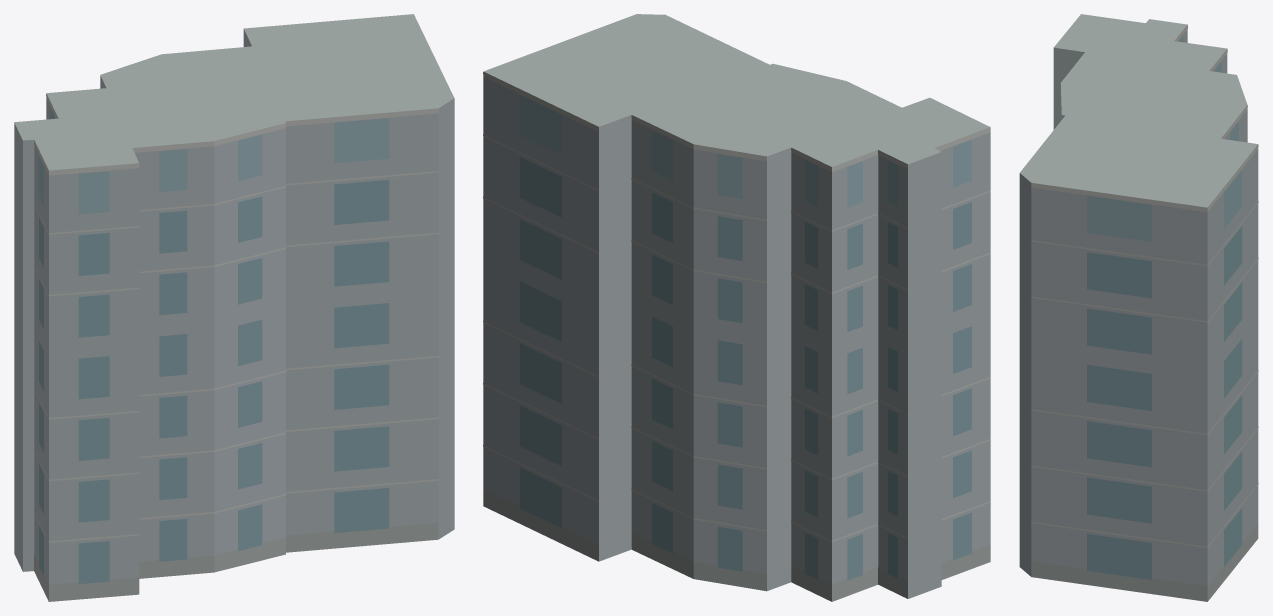
File: survey-upis-32602703.glb
3 views of the same model, side by side, from view 1: azimuth 30°, elevation 25°; view 2: azimuth 150°, elevation 25°; view 3: azimuth 270°, elevation 25° (orthographic). The views are drawn at different scales.
Parts seen in each view (by area): view 1: survey-upis-32602703.tmp; view 2: survey-upis-32602703.tmp; view 3: survey-upis-32602703.tmp.
Part boxes in pixels (left/top/right/bottom): survey-upis-32602703.tmp: left=14, top=14, right=454, bottom=601; survey-upis-32602703.tmp: left=483, top=14, right=990, bottom=601; survey-upis-32602703.tmp: left=1019, top=14, right=1258, bottom=601.
Bounding box in the file's own units: 21.98 × 20.85 × 11.46.
